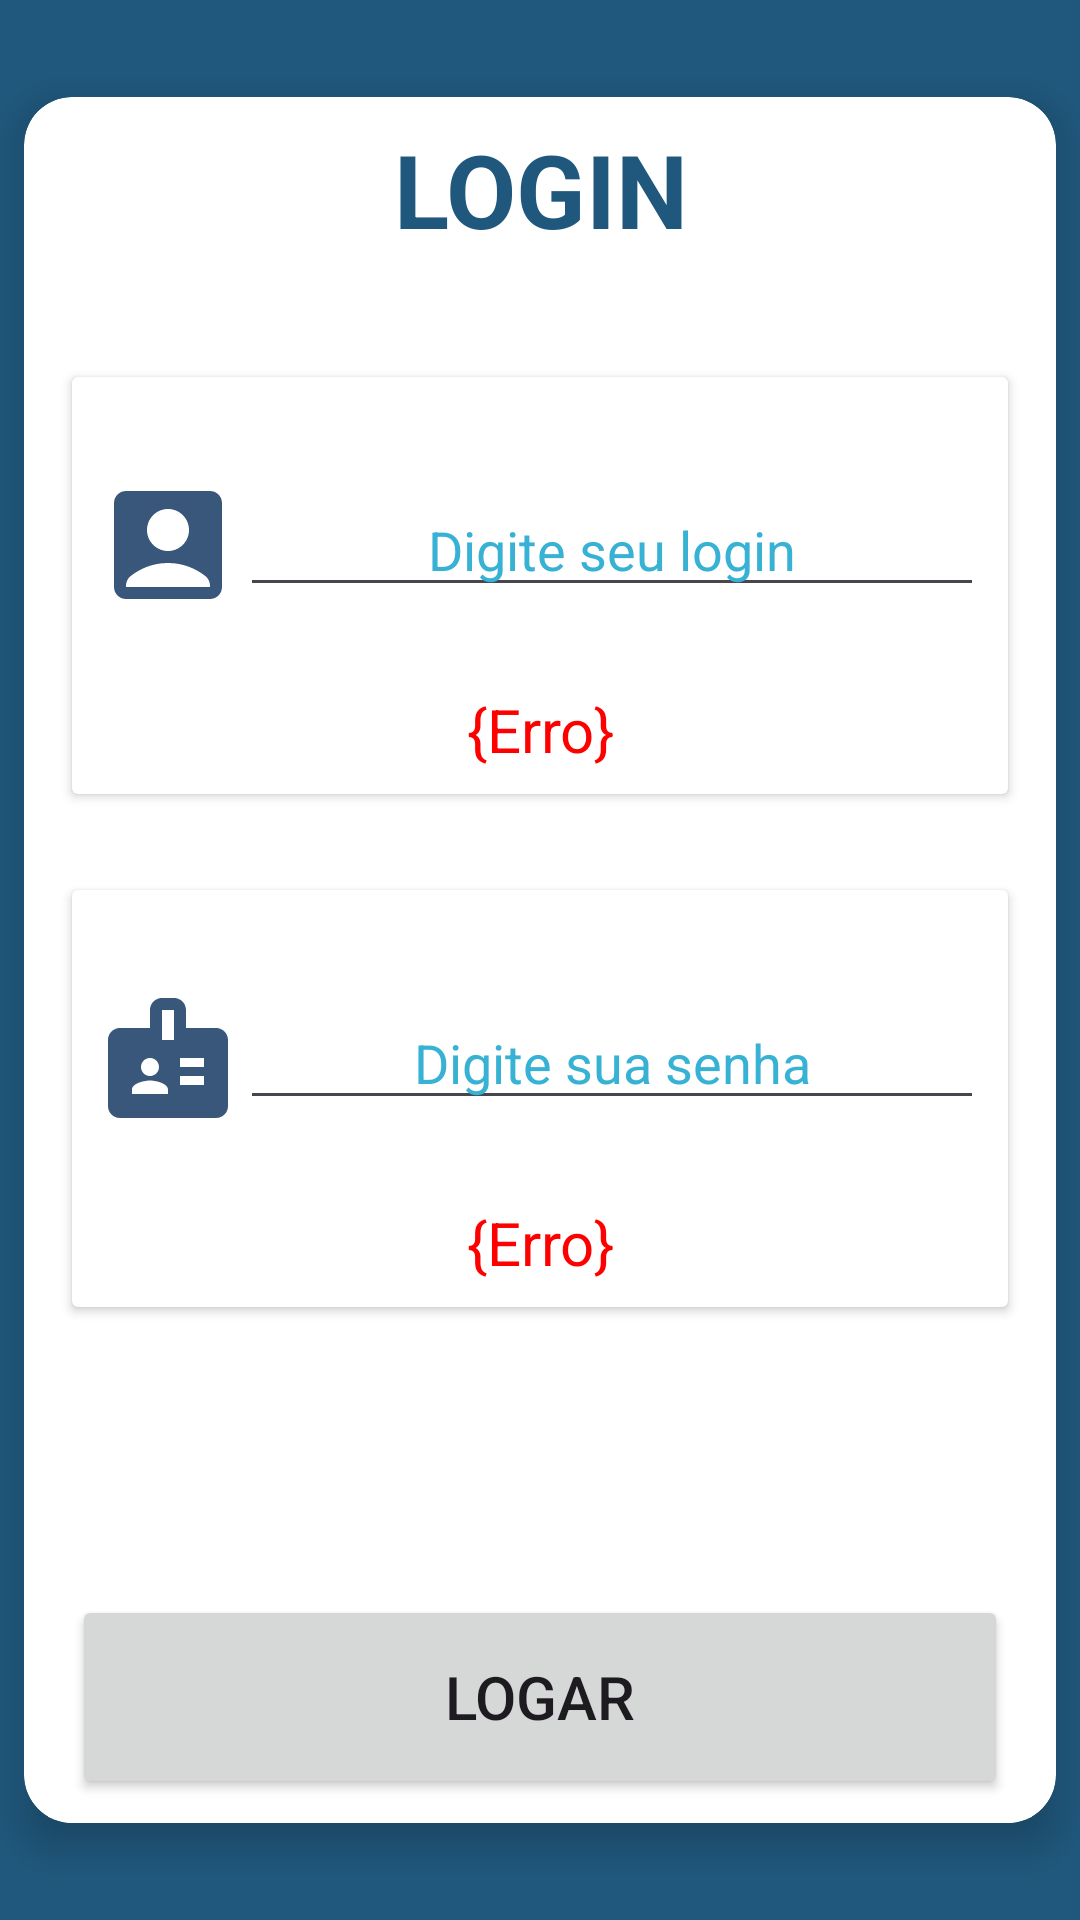

Where to tap for icons on this 1080px x 1920px app screen, as [x,y]:
pass main: [168,1058]
user main: [168,545]
